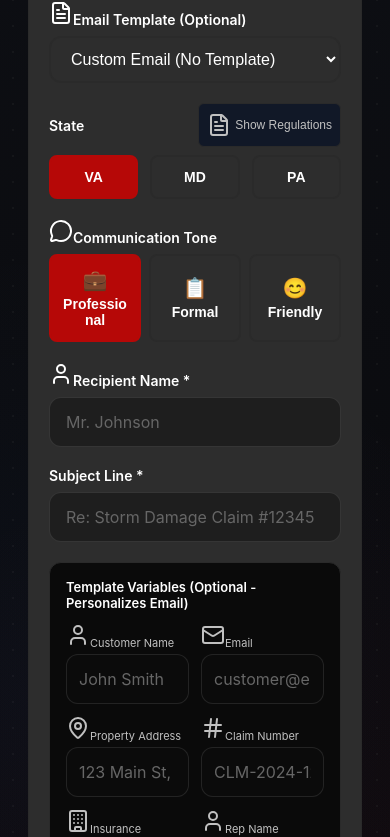
keeps and saves the email when optional explanation fails
(page scrolled)
Step 1. Type "Fixture Homeowner" into the field named "Recipient name" → [195, 422], box [49,397,341,447]
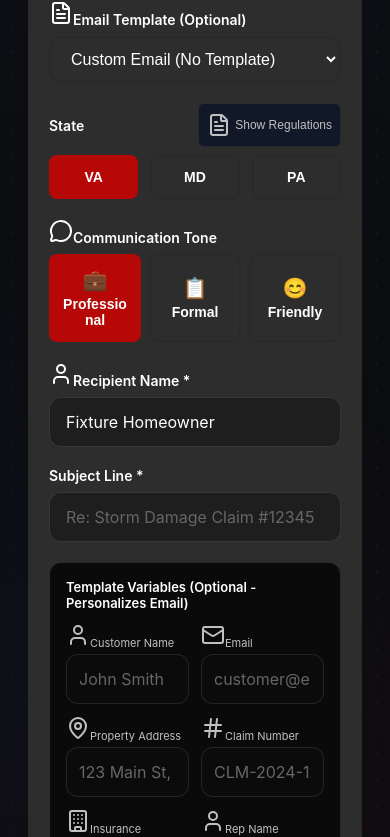
Step 2. Type "Inspection follow-up" into the field named "Subject line" → [195, 517], box [49,492,341,542]
(page scrolled)
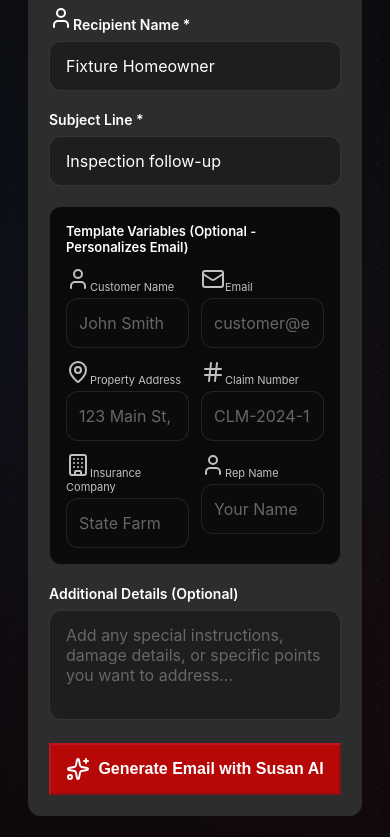
Step 3. Click the button "Generate Email with Susan AI" → [195, 769], box [49,743,341,795]
(page scrolled)
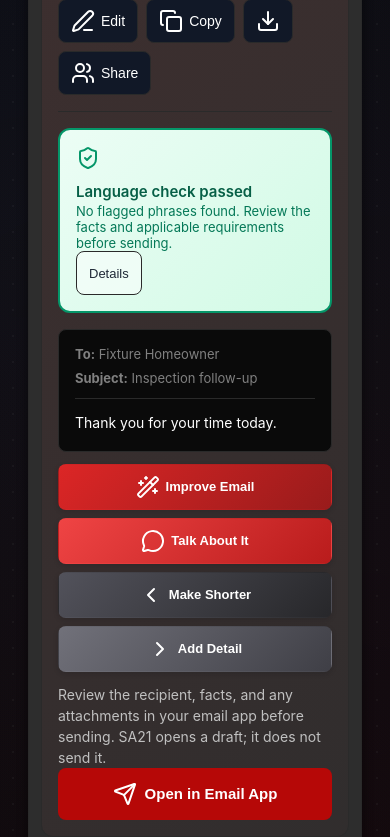
expect the text "Thank you for your time today." is shown: met, box [75,414,277,431]
